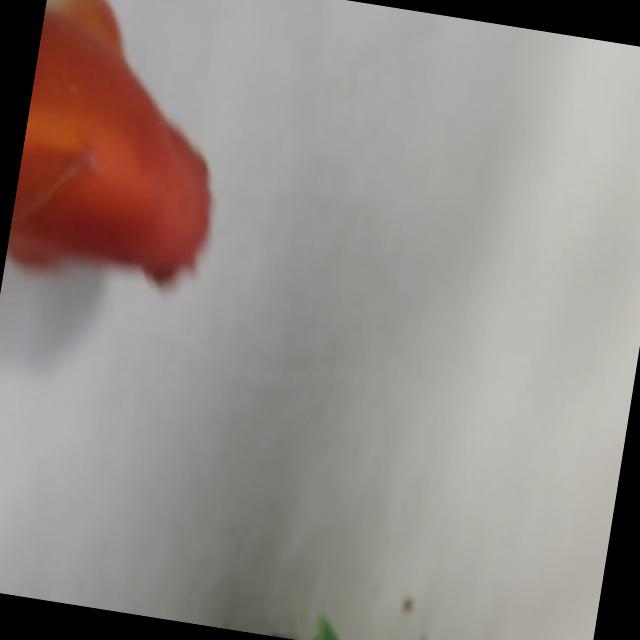fish: (0, 0, 244, 611)
